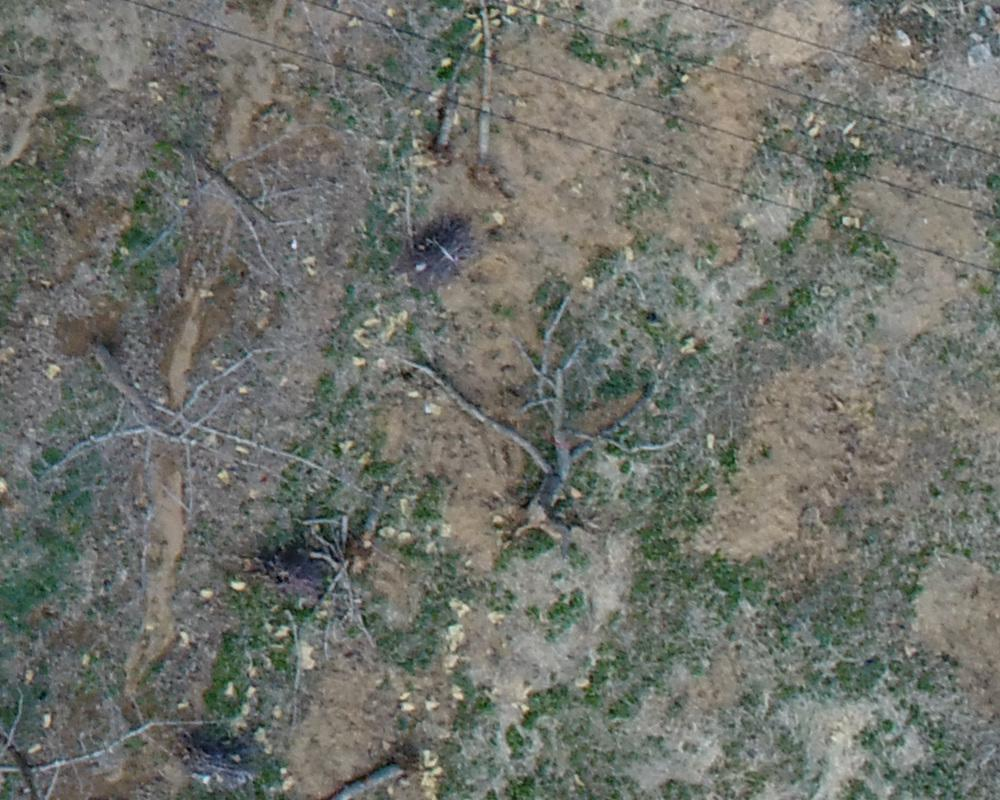apple: (38, 319, 346, 507), (117, 107, 335, 279), (10, 681, 187, 790)
